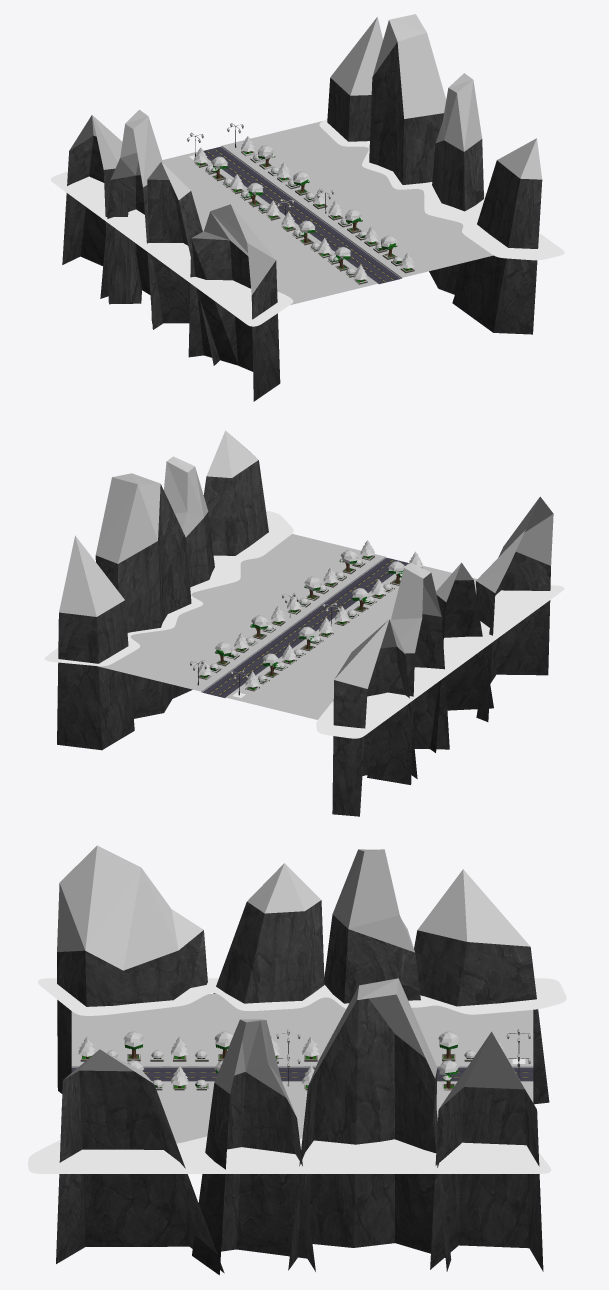
The model's file is citywinter_06.fbx.
The picture shows the model from 3 angles, top to bottom: view 1: azimuth 30°, elevation 25°; view 2: azimuth 150°, elevation 25°; view 3: azimuth 270°, elevation 25°; orthographic projection. The views are drawn at different scales.
Parts seen in each view (by area): view 1: City_06; view 2: City_06; view 3: City_06.
Boxes of the visible parts, x1=… form: City_06: x1=50, y1=14, x2=564, y2=401; City_06: x1=44, y1=430, x2=564, y2=816; City_06: x1=28, y1=845, x2=566, y2=1275.
Size of the model in its own units: 22617 by 13384 by 25170.
